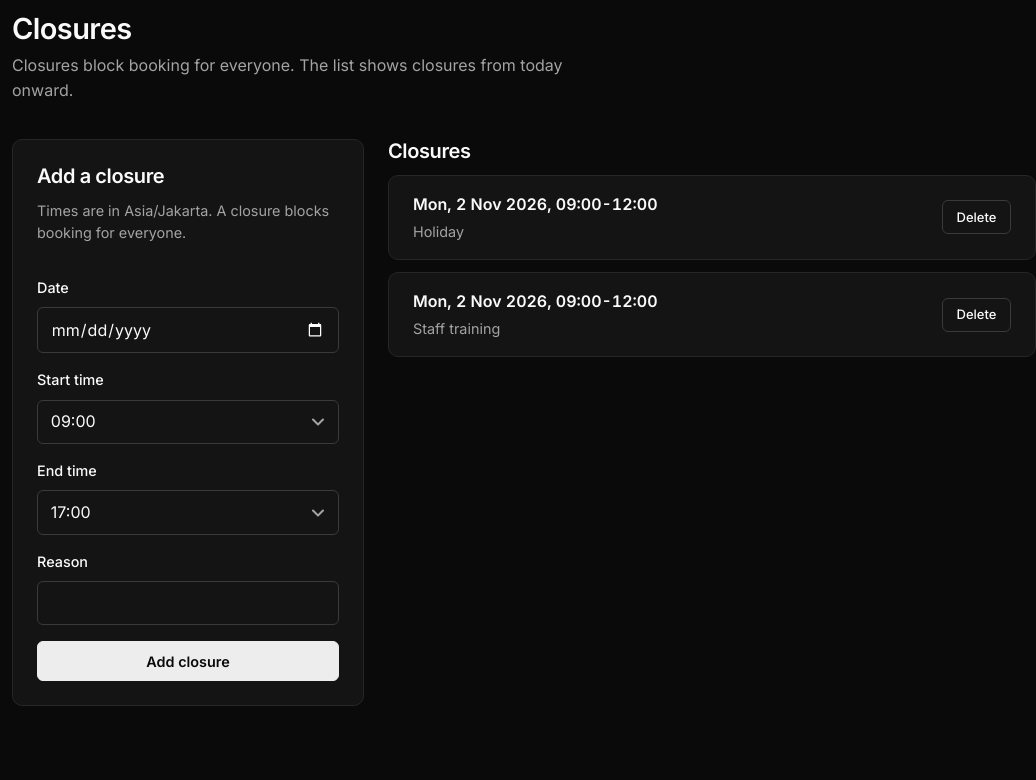
ClosuresPage › deletes a closure after confirmation and refreshes the list
Expected: the text "Holiday" is shown, [413, 223, 464, 240]
Step 1. Click the button named "Delete closure: Holiday" → (976, 218), box [942, 200, 1011, 234]
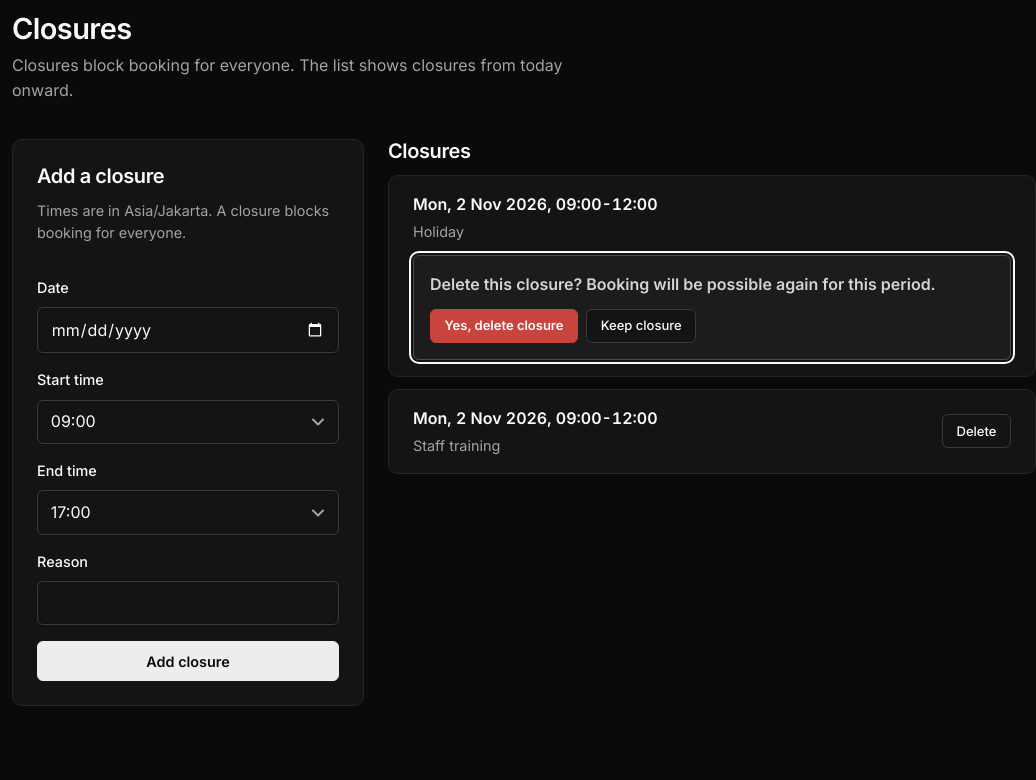
Step 2. Click the button "Yes, delete closure" → (504, 326), box [430, 309, 578, 343]
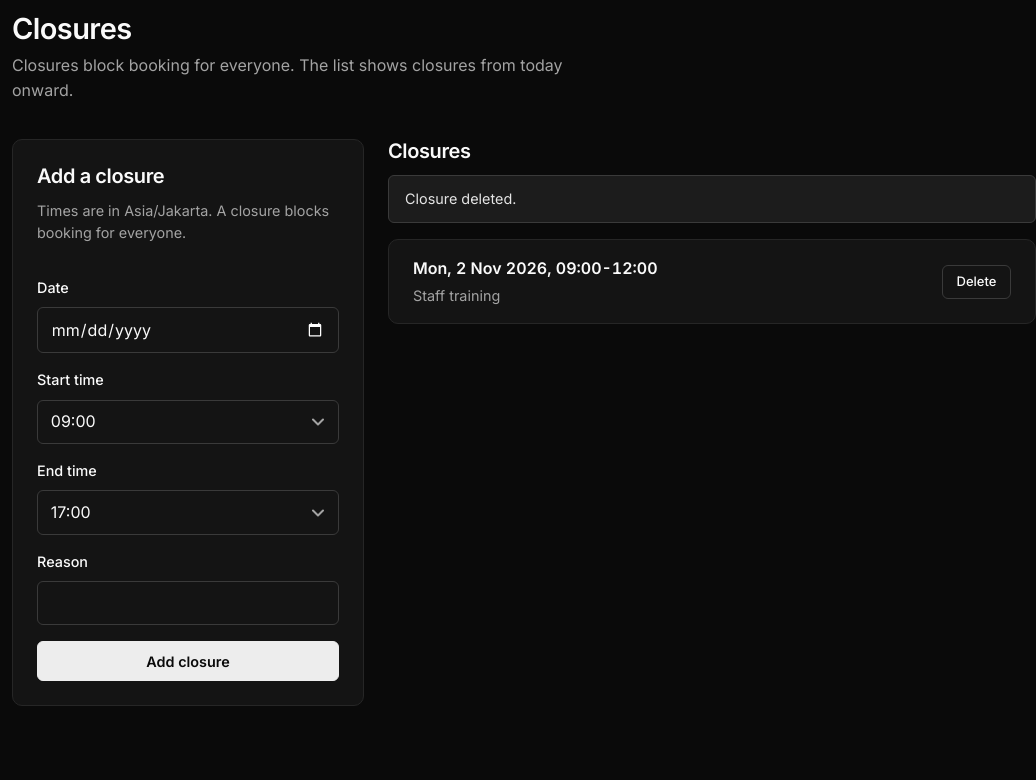
Expected: the text "Staff training" is shown, [413, 287, 500, 304]
Expected: the text "Closure deleted." is shown, [388, 175, 1035, 223]
Expected: the text "Holiday" is gone
